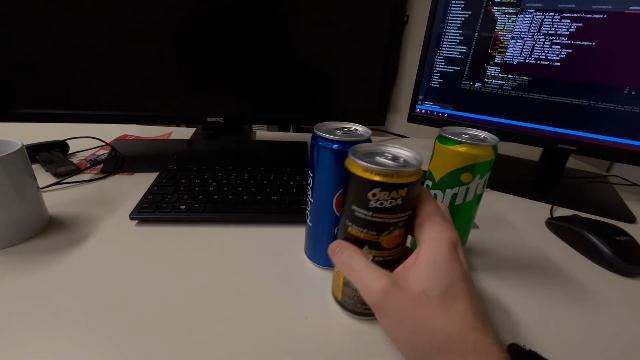OranSoda: (328, 142, 424, 320)
Pepsi: (304, 121, 372, 274)
Sprite: (424, 124, 498, 258)
